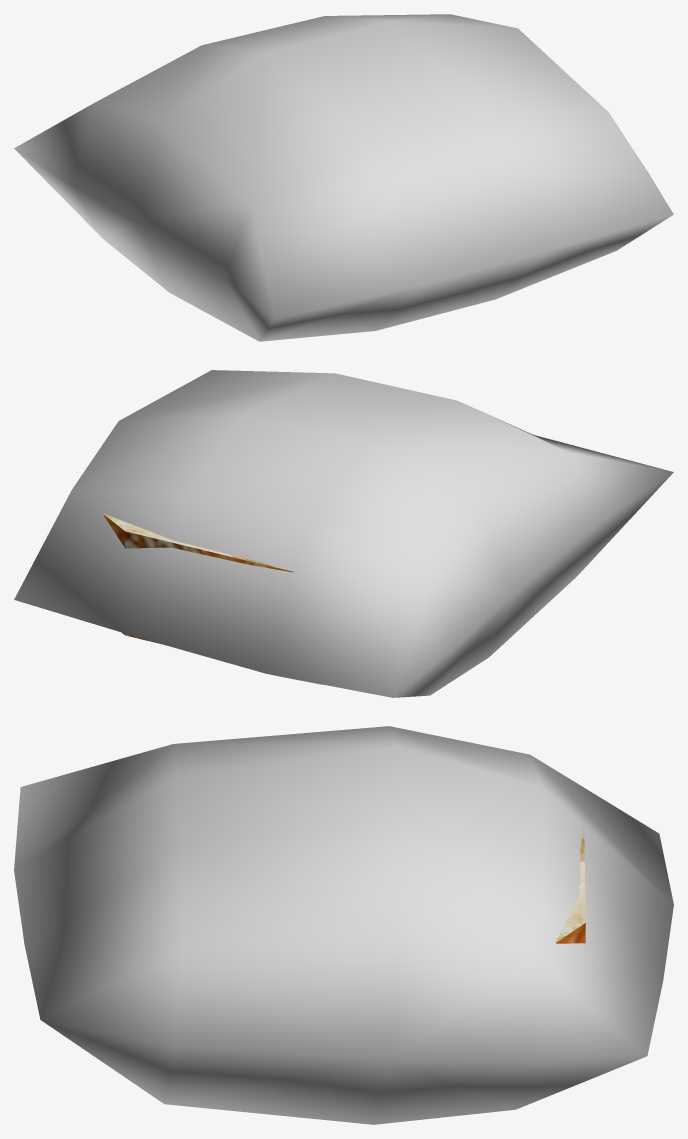
The model's file is SM_bread_toast.fbx.
The picture shows the model from 3 angles, top to bottom: view 1: azimuth 30°, elevation 25°; view 2: azimuth 150°, elevation 25°; view 3: azimuth 270°, elevation 25°; orthographic projection. The views are drawn at different scales.
Visible parts, largest first — view 1: Object32437; view 2: Object32437; view 3: Object32437.
Boxes of the visible parts, x1,y1,x2,y2 form: Object32437: (14, 14, 673, 341); Object32437: (14, 370, 673, 697); Object32437: (14, 726, 673, 1124).
Bounding box in the file's own units: 25.92 × 12.45 × 28.76.
